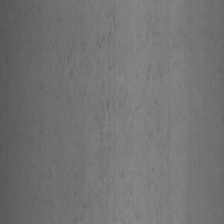silk_spot: (140, 14, 223, 213), (77, 13, 138, 208)
